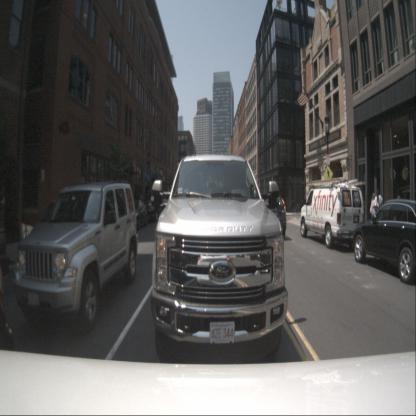human-pedestrian-adult: (374, 189, 383, 236), (370, 193, 376, 236)
vehicle-car: (150, 154, 288, 361), (14, 180, 139, 331), (352, 198, 416, 284), (300, 185, 364, 249), (254, 198, 287, 242), (122, 200, 148, 231)
